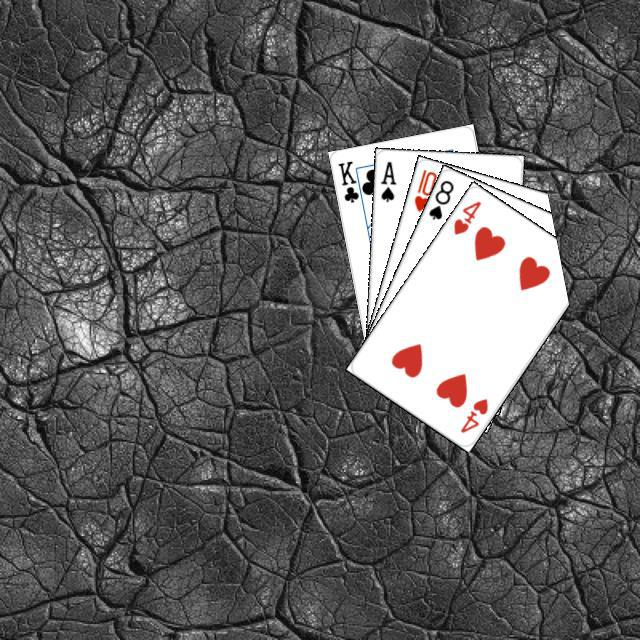10h: (409, 164, 439, 214)
4h: (455, 393, 490, 435), (448, 196, 483, 237)
8s: (423, 175, 455, 221)
As: (376, 156, 398, 203)
Kc: (333, 156, 365, 207)
